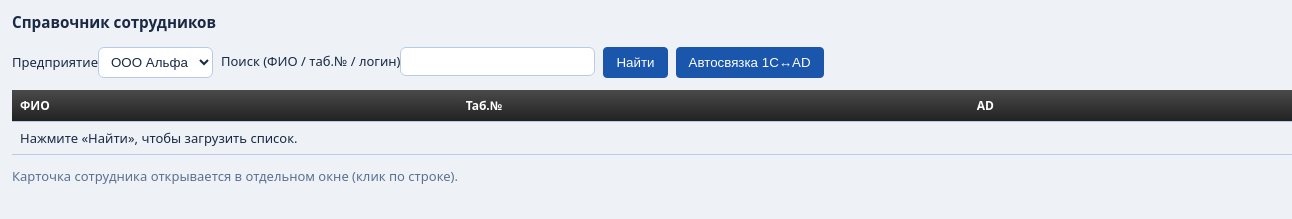
Test case: Directory › админ запускает автосвязку 1С↔AD
expect the dropdown named "Предприятие справочника" is shown: met, box 98,47 -> 213,78
Click the button "Автосвязка 1С↔AD". click: (750, 63)
box: 676,47 -> 824,78
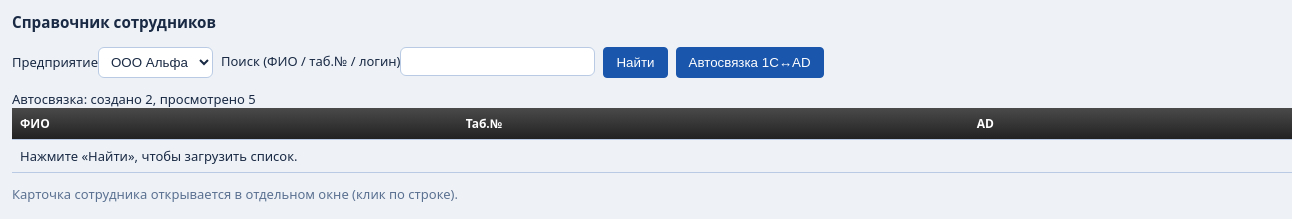
expect the message shows "создано 2, просмотрено 5": met, box 12,90 -> 256,108
